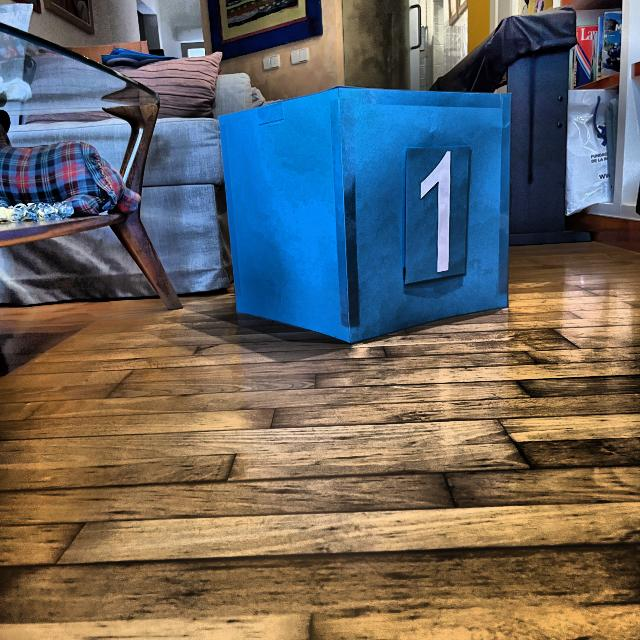blue box: (216, 86, 512, 348)
one: (414, 148, 459, 276)
